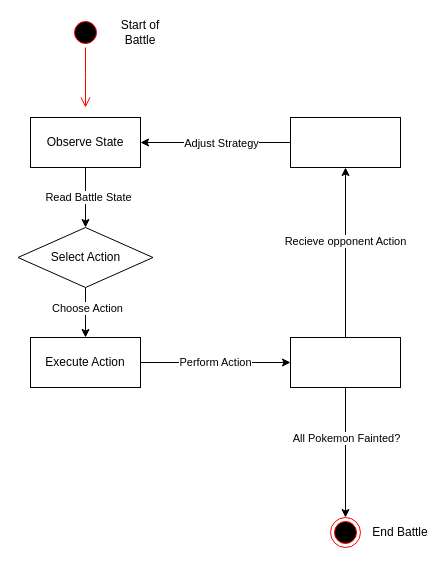
The diagram is 447 pixels wide and 565 high, and some of its shapes have lost their labels. The shapes that lost their labels are listed below. From the top down, each one's box as (x1, y1, x2, y2) in pixels, then its label:
(290, 116, 400, 168): Update Strategy
(290, 336, 400, 388): Wait for Opponent
